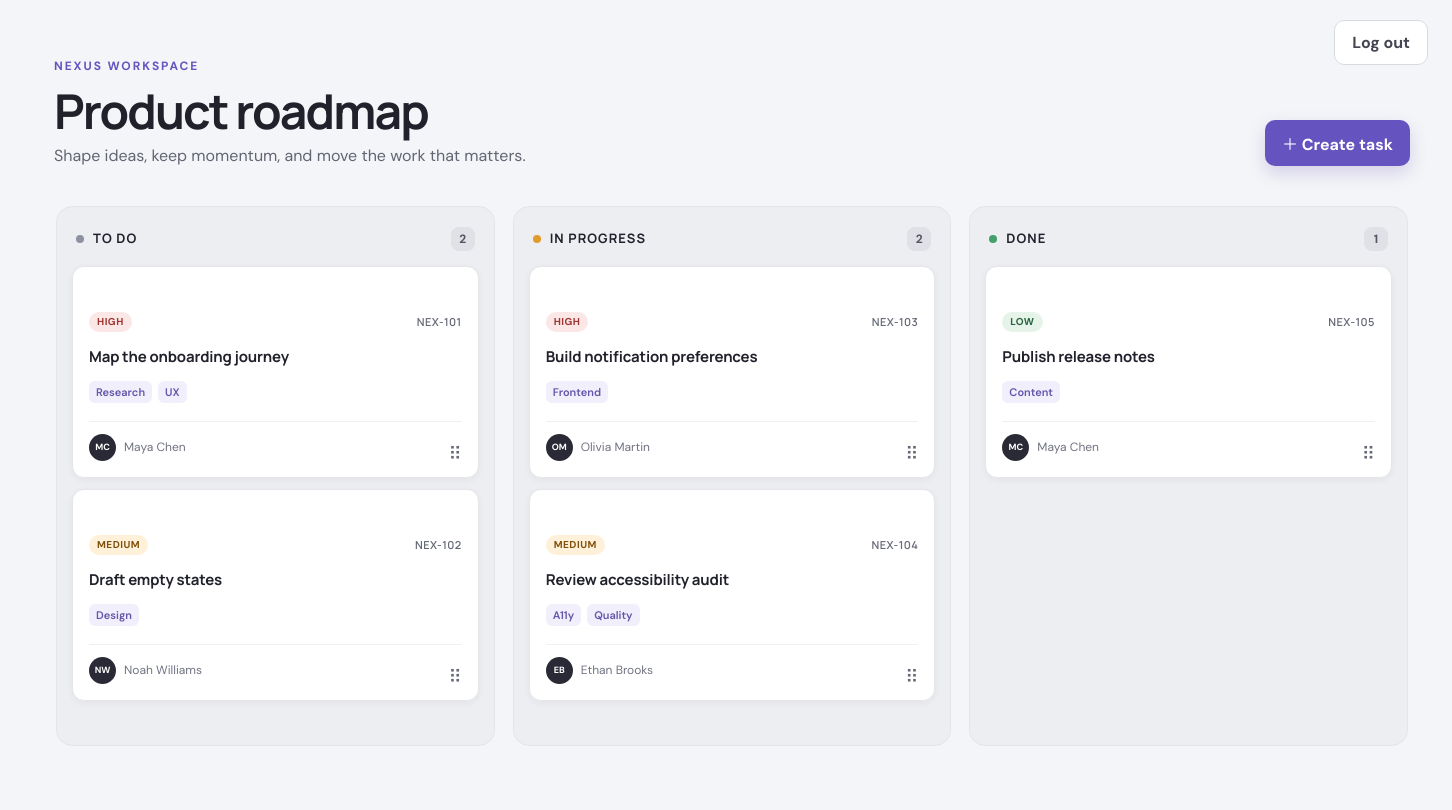
successful logout clears authentication and opens login
Click the button "Log out" at [1381, 42], box top-left (1334, 20), bottom-right (1428, 65)
(page scrolled)
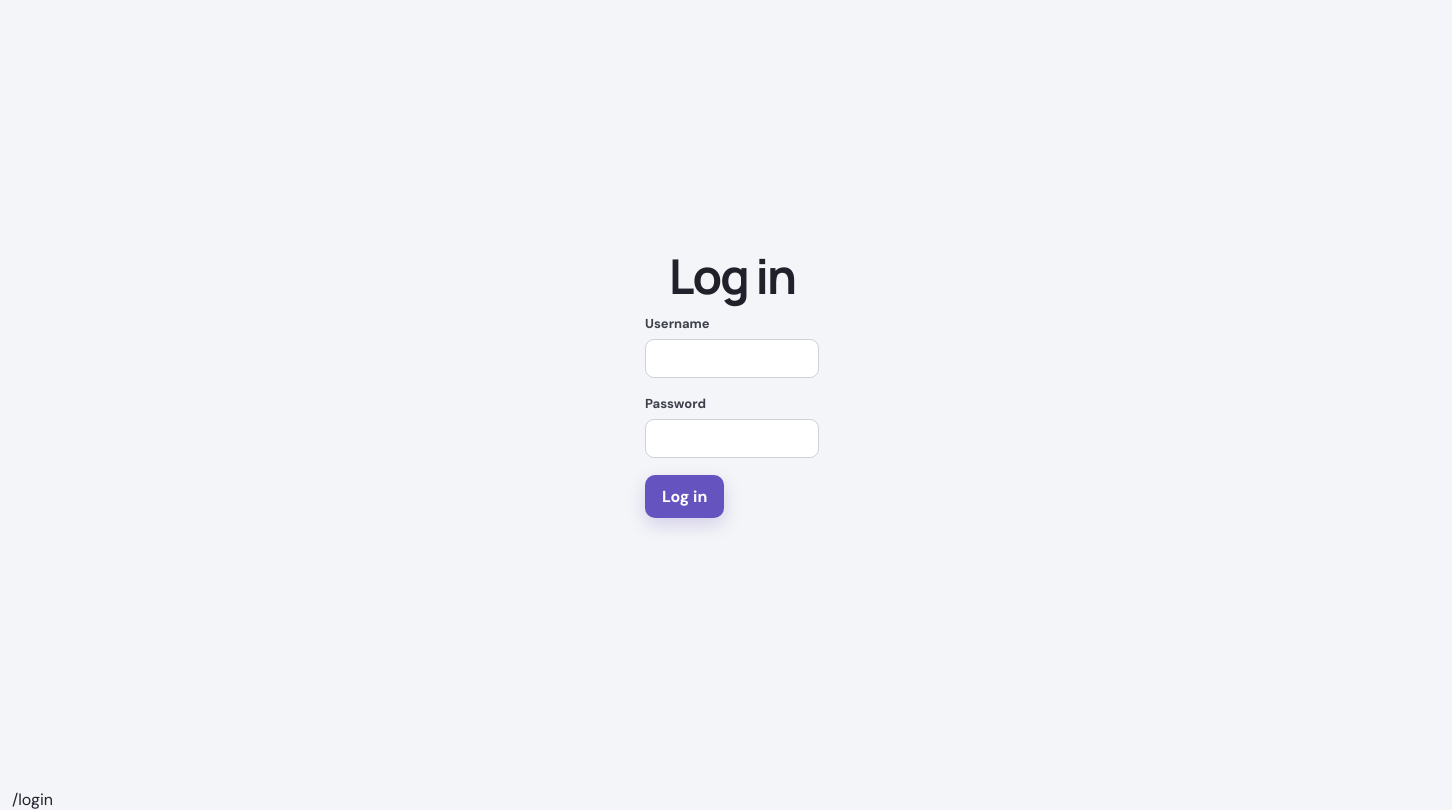
Expected: the text with test id "location" reads "/login", top-left (12, 789), bottom-right (53, 809)
